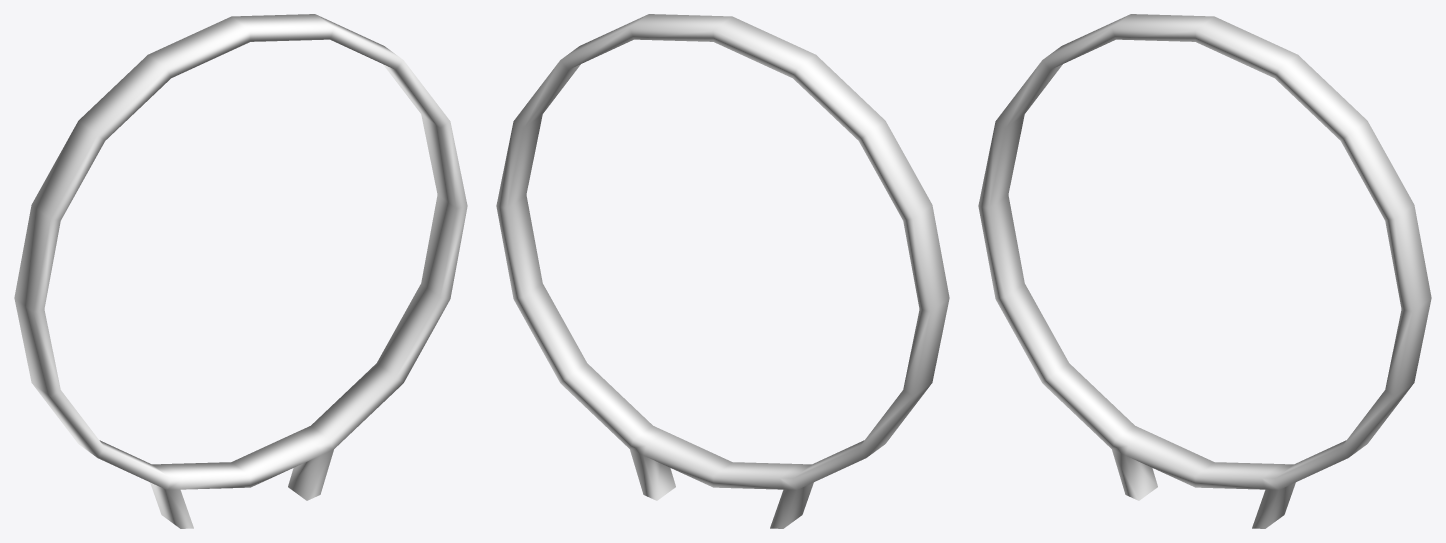
File: GFRIEND_04.glb
3 renders of one model, left to right at view 1: azimuth 30°, elevation 25°; view 2: azimuth 150°, elevation 25°; view 3: azimuth 330°, elevation 25°, orthographic.
Parts seen in each view (by area): view 1: GFRIEND_04; view 2: GFRIEND_04; view 3: GFRIEND_04.
Part boxes in pixels (x1,y1,x2,y2): GFRIEND_04: [14, 14, 467, 528]; GFRIEND_04: [496, 14, 949, 528]; GFRIEND_04: [978, 14, 1431, 528].
Size of the model in its own units: 0.158 by 0.1684 by 0.0121.
Materials: 1 (1 with a texture image).
